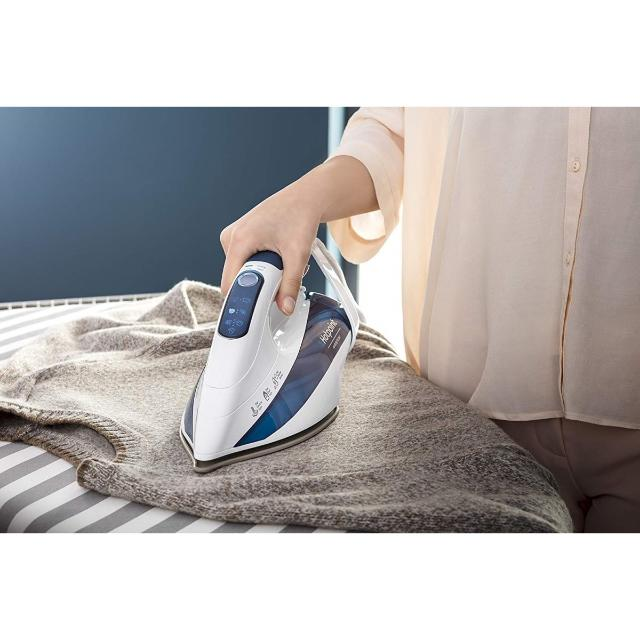Clothes-Iron: (176, 235, 366, 478)
